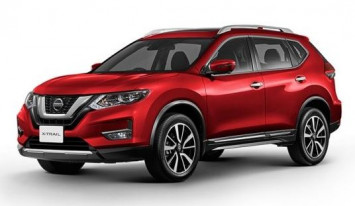pickup: (15, 25, 342, 181)
